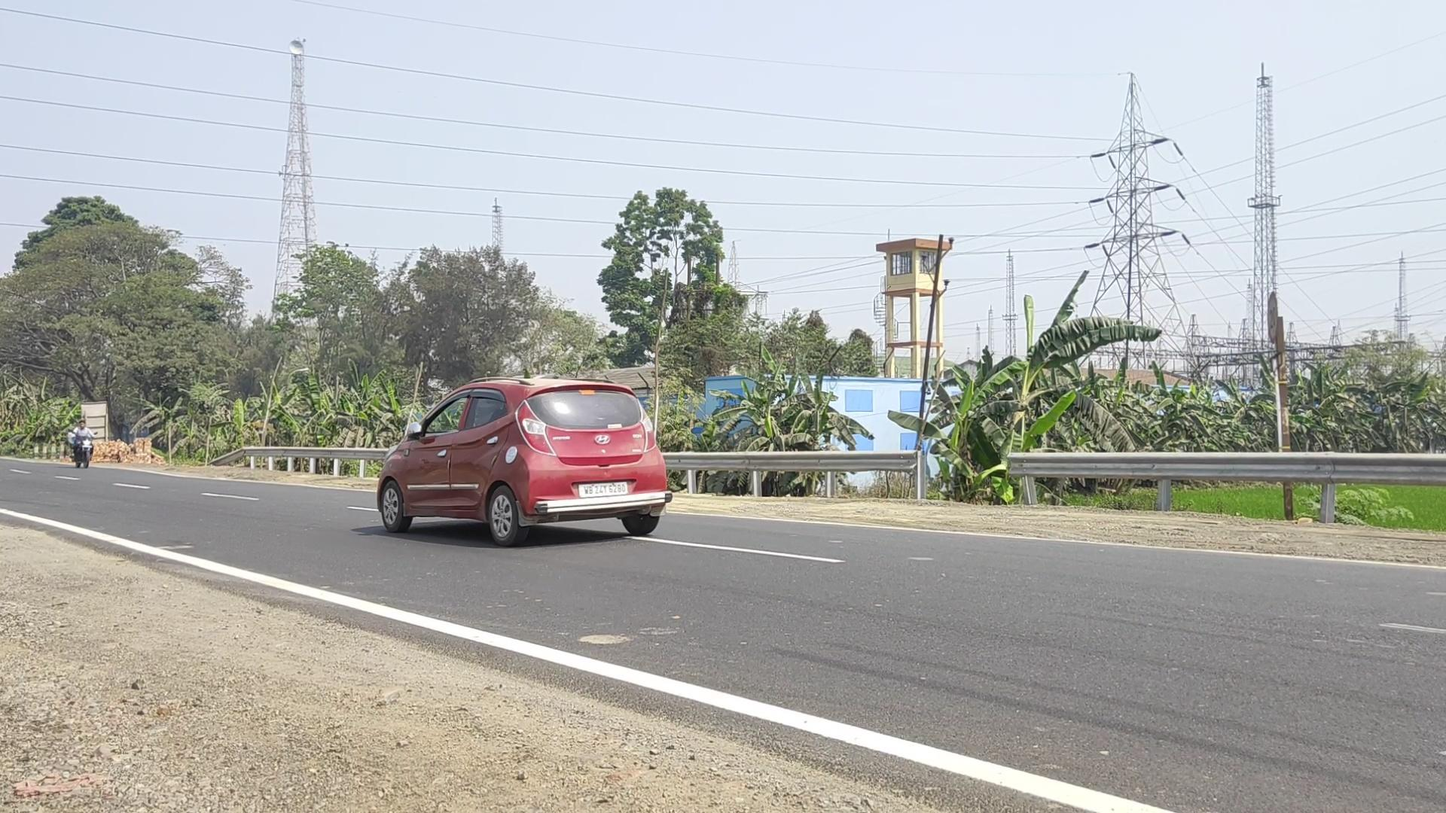bike: (67, 419, 98, 468)
car: (376, 376, 673, 548)
